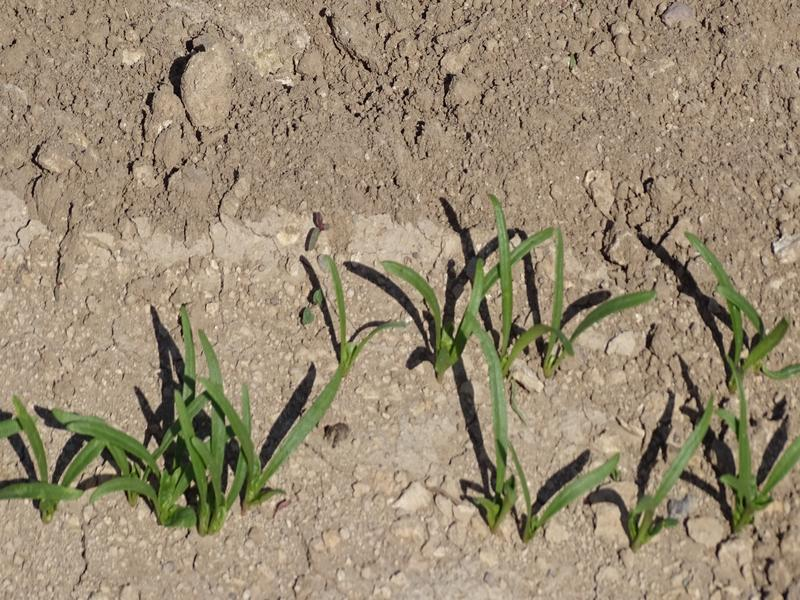Espinaca: (4, 313, 328, 522), (398, 225, 612, 537), (629, 253, 793, 531)
